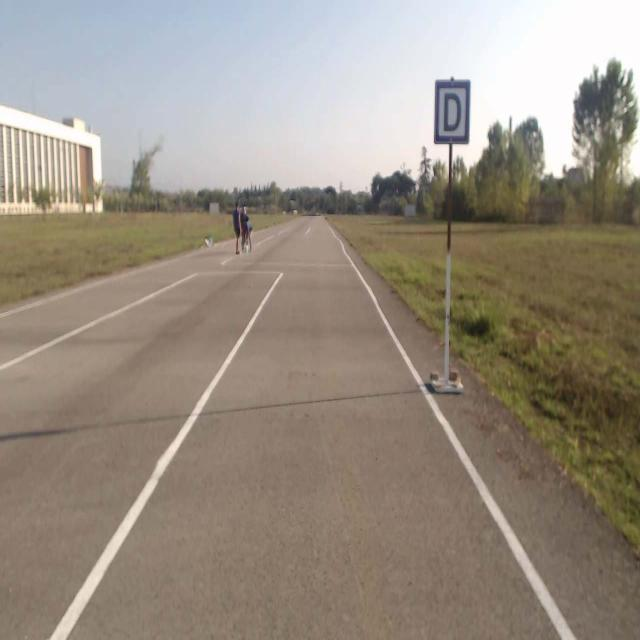durak: (434, 80, 470, 145)
